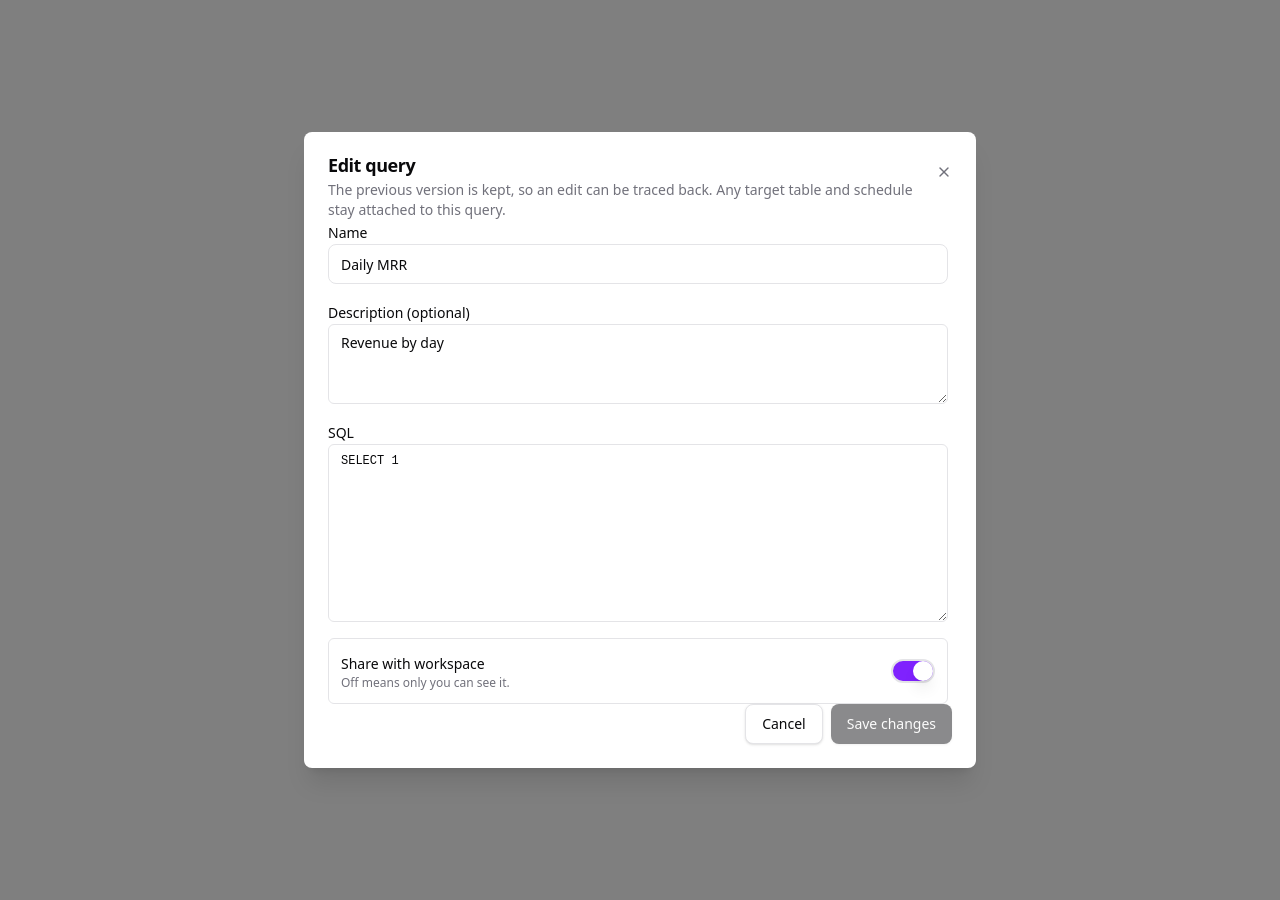
Test: SavedQueryEditDialog › says a teammate's save got there first, keeps the typed edit, and reloads theirs on request
The width and height of the screenshot is (1280, 900).
Replace the text in the text box labelled "SQL" with "SELECT 3" at (638, 533), box 328,444 -> 948,622
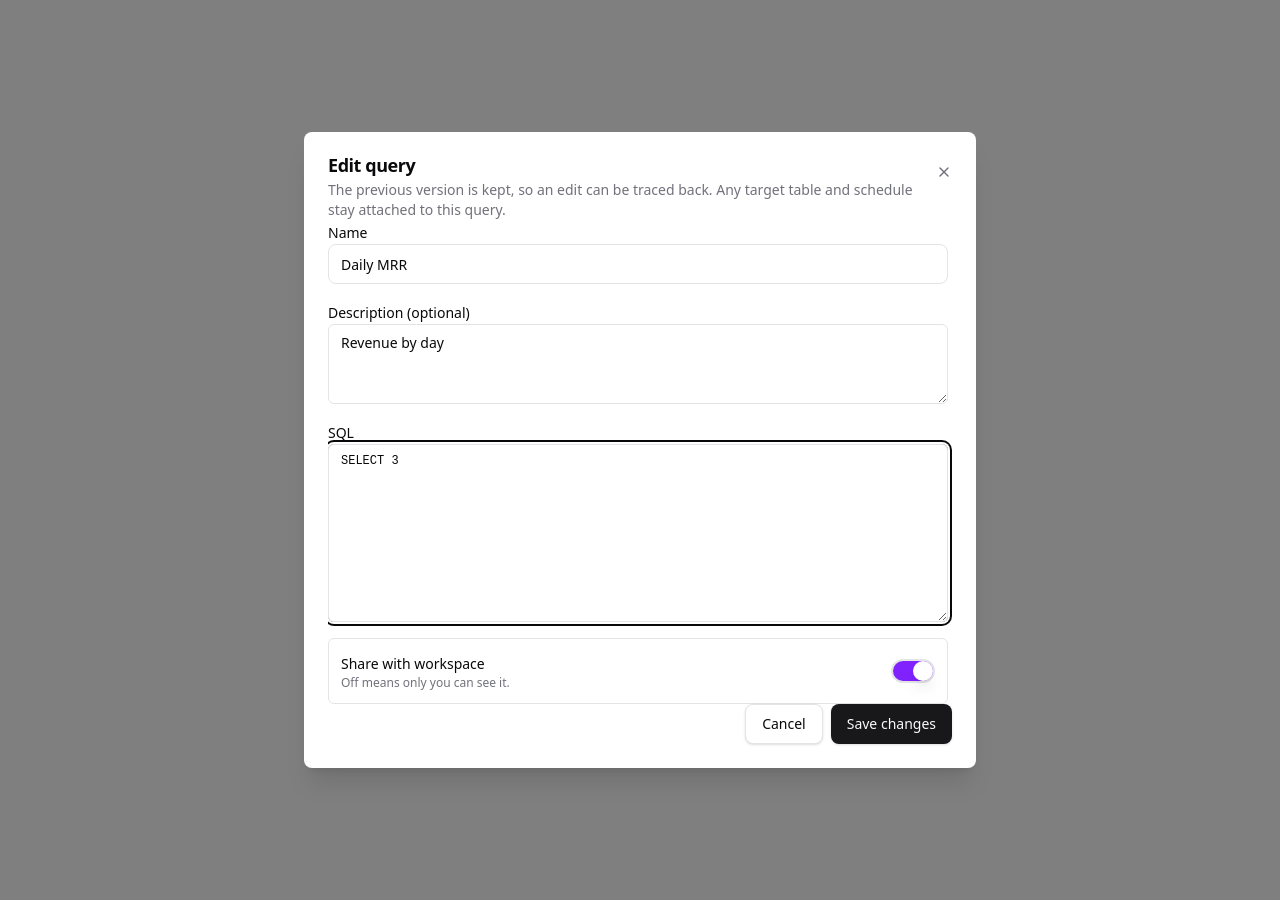
Click the button "Save changes" at (891, 724), box 831,704 -> 952,744
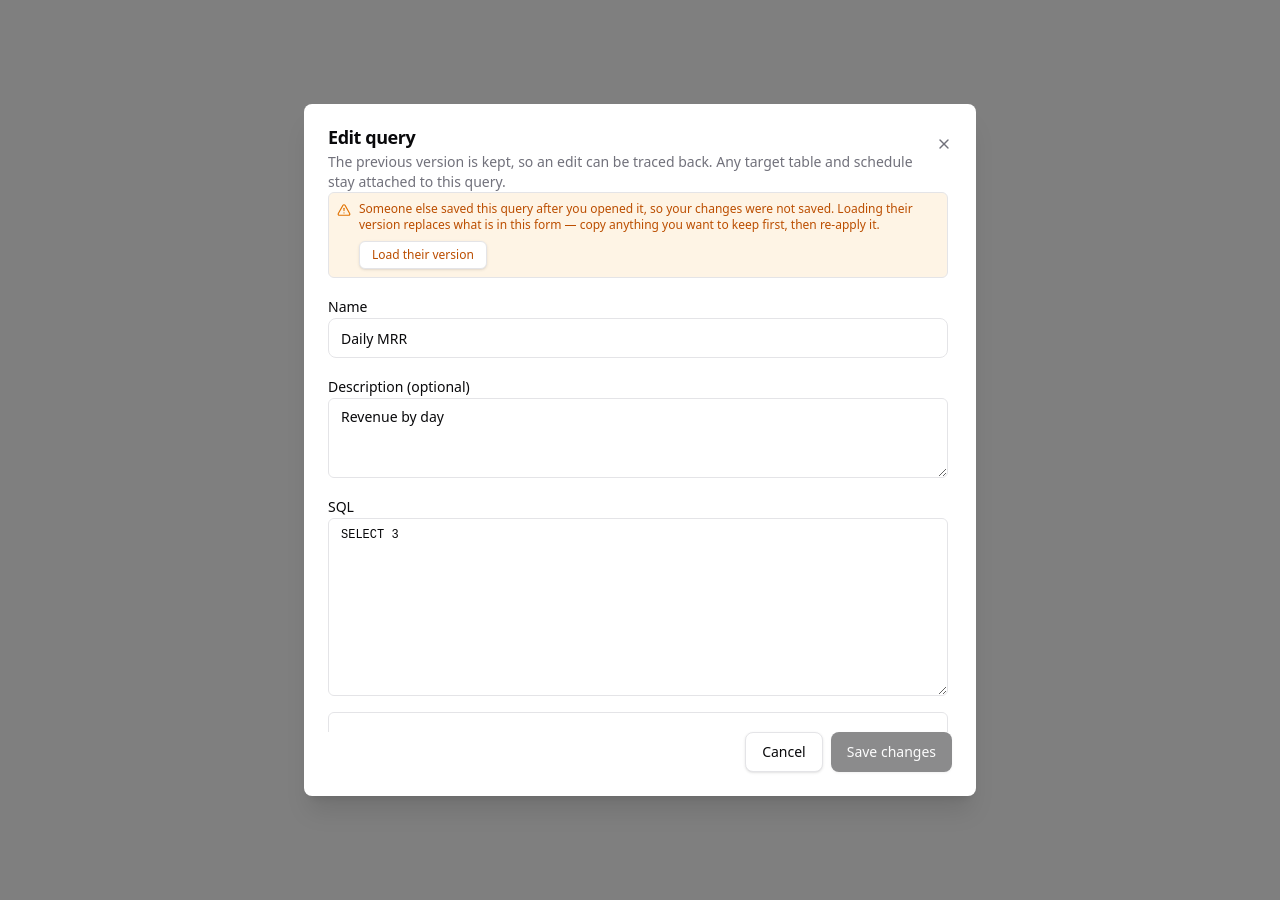
Expected: the message shows "Someone else saved this query", 359,200 -> 913,233
Expected: the button "Save changes" is disabled, 831,732 -> 952,772
Click the button "Load their version" at (423, 255), box 359,241 -> 487,269
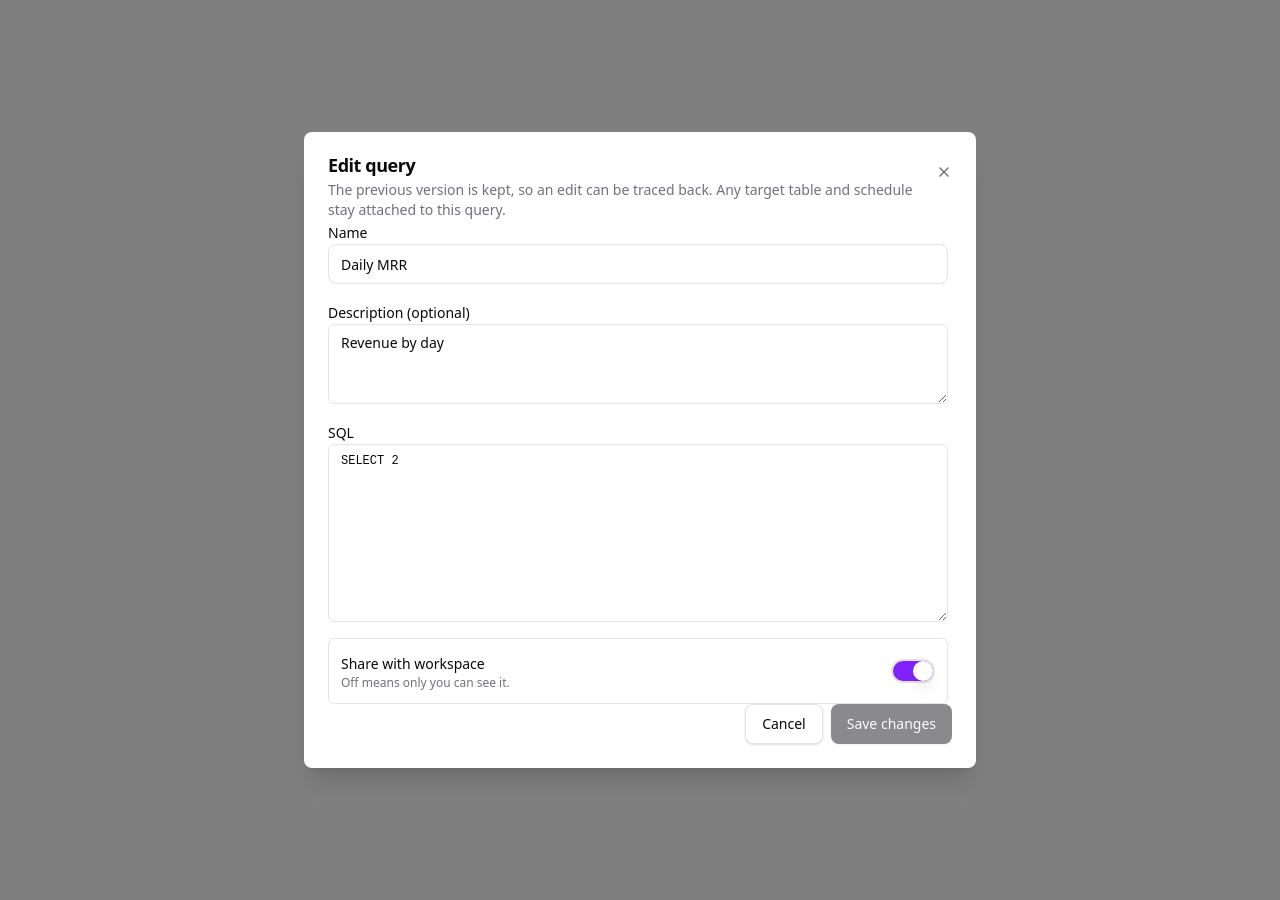
Expected: the text box labelled "SQL" holds "SELECT 2", 328,444 -> 948,622
Expected: the message is gone
